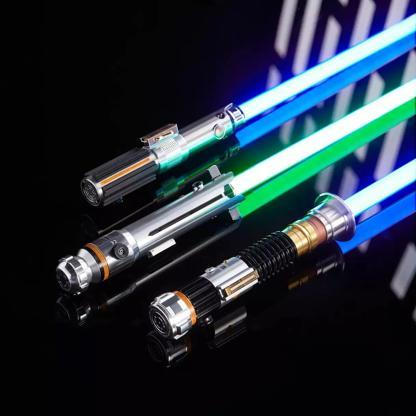lightsaber: (58, 75, 416, 301), (80, 11, 416, 212), (145, 155, 416, 351)
